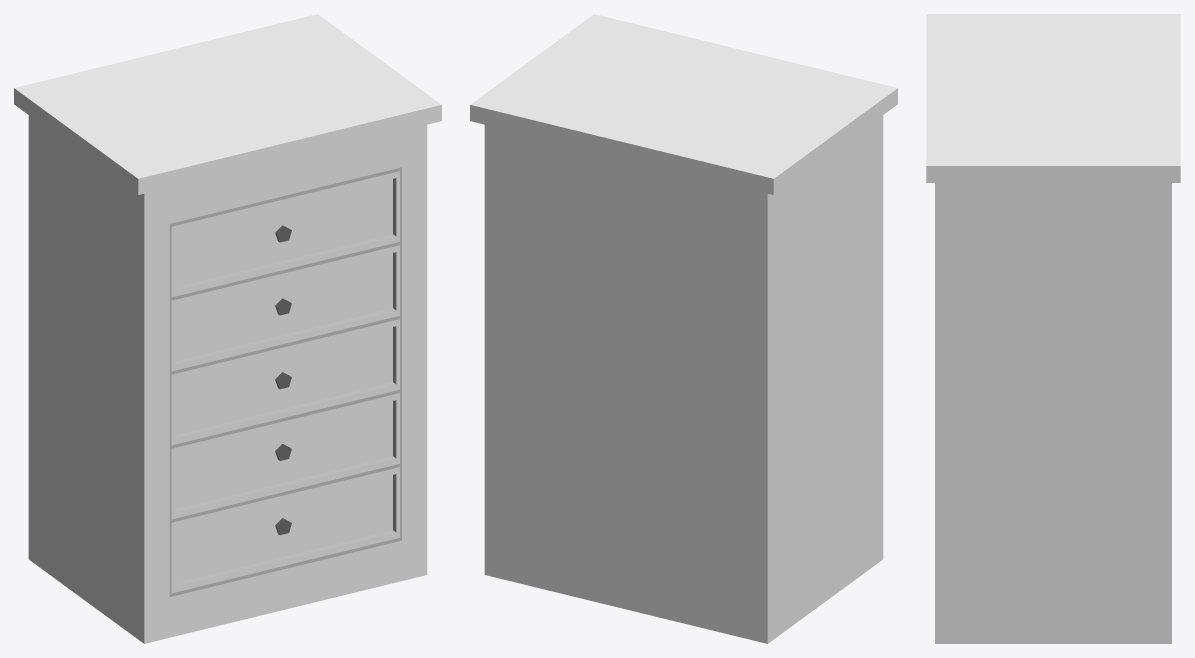
Rendered from Lv2 Dresser.fbx.
3 views of the same model, side by side, from view 1: azimuth 30°, elevation 25°; view 2: azimuth 150°, elevation 25°; view 3: azimuth 270°, elevation 25° (orthographic). The views are drawn at different scales.
Visible parts, largest first — view 1: Commodin; view 2: Commodin; view 3: Commodin.
Part boxes in pixels (box(x1,y1,x2,y2)): Commodin: box(14, 14, 441, 643); Commodin: box(470, 14, 897, 643); Commodin: box(926, 14, 1180, 643).
Size of the model in its own units: 92.62 by 137 by 65.52.
